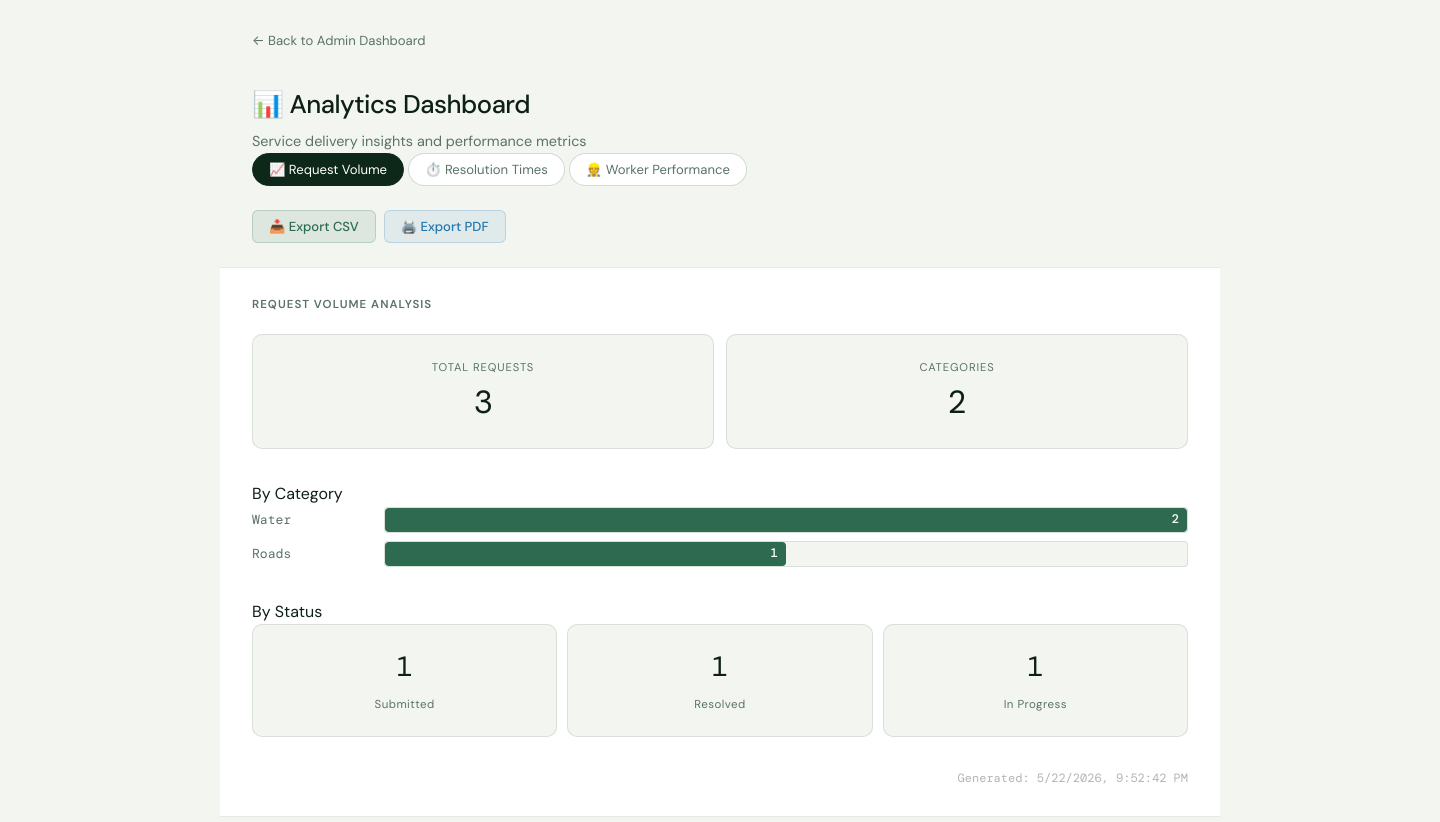
Test: shows worker empty state
Click the button "👷 Worker Performance". click: (658,169)
box: [569,153,747,186]
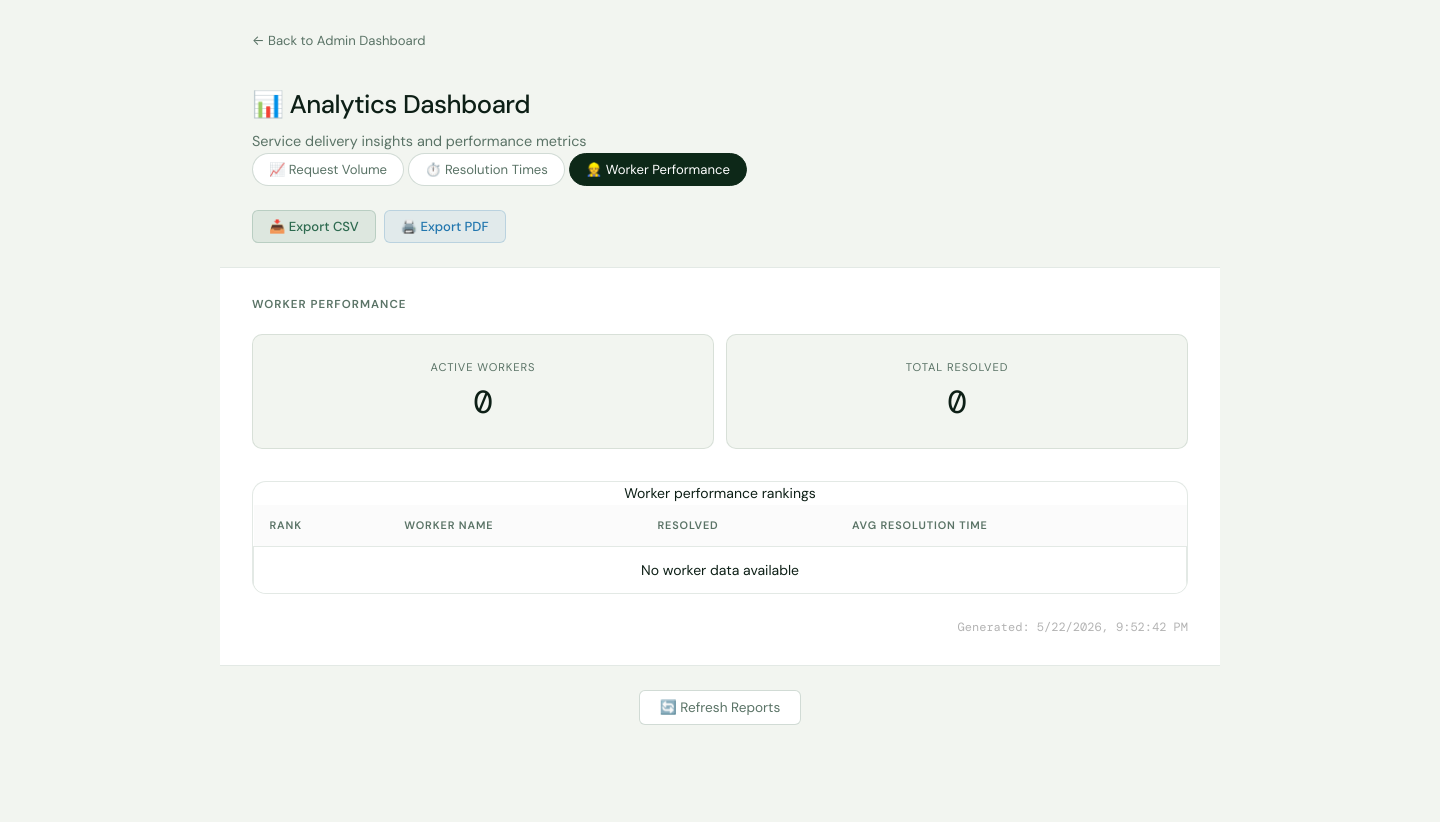
Result: the text "No worker data available" is shown at [254,546,1186,593]
